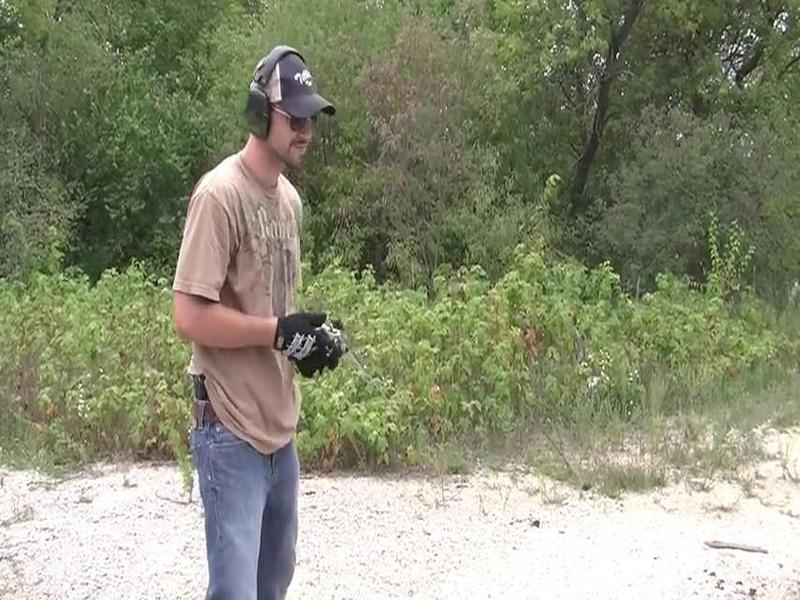Revolver: (279, 324, 386, 401)
